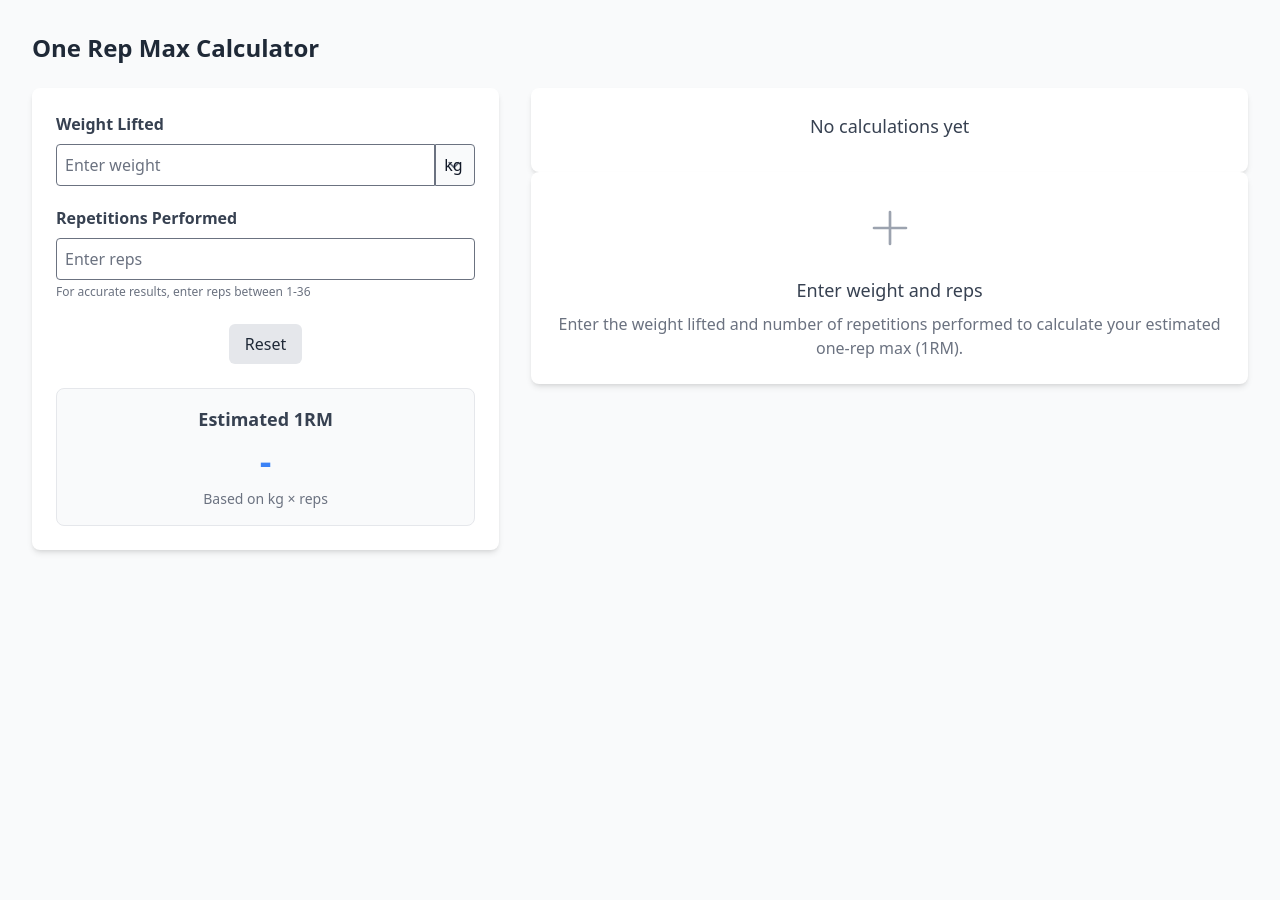
OneRepMaxCalculator › resets calculator when Reset button is clicked
Type "100" into the number field with placeholder "Enter weight" at (246, 165), box [56, 144, 435, 186]
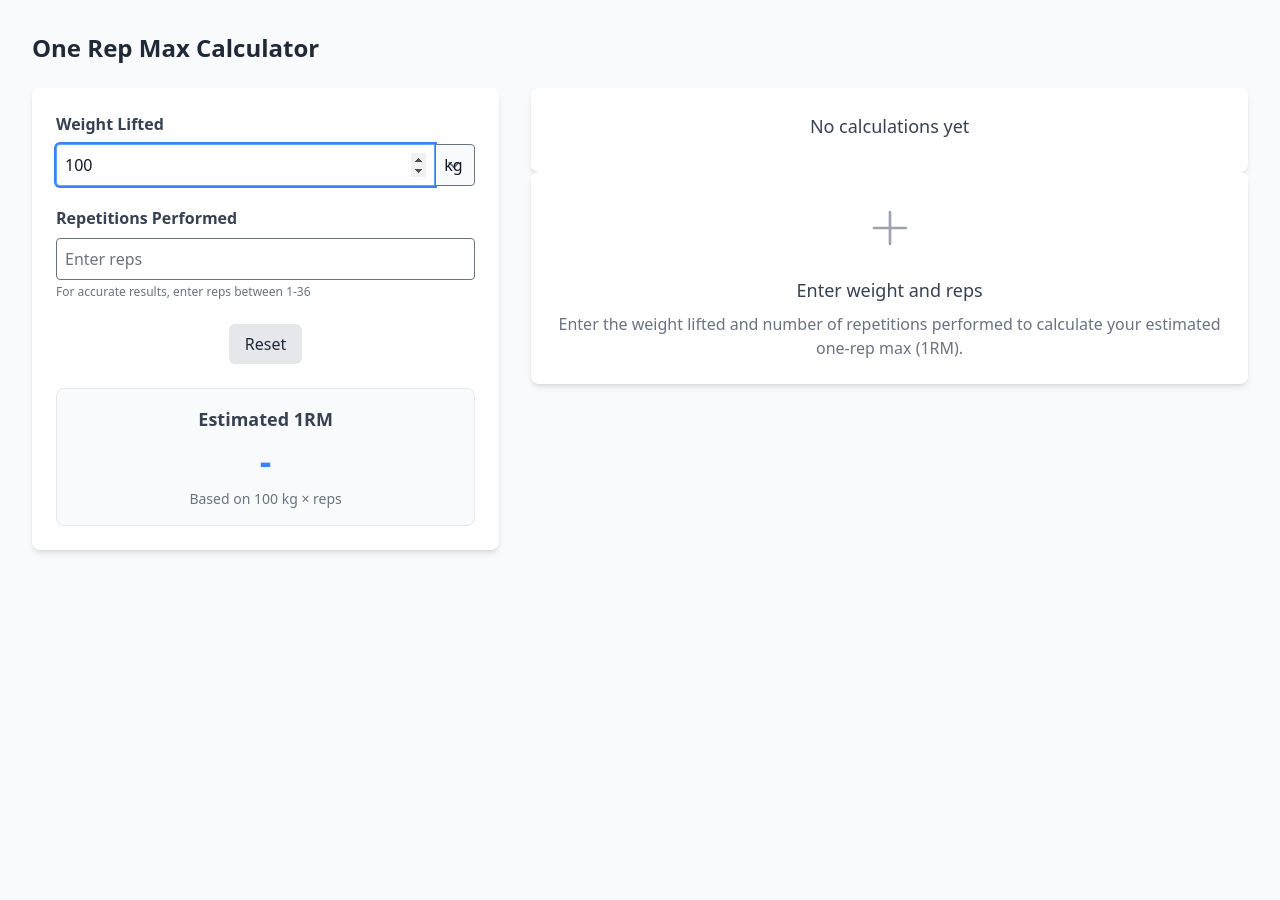
Type "10" into the number field with placeholder "Enter reps" at (266, 259), box [56, 238, 475, 280]
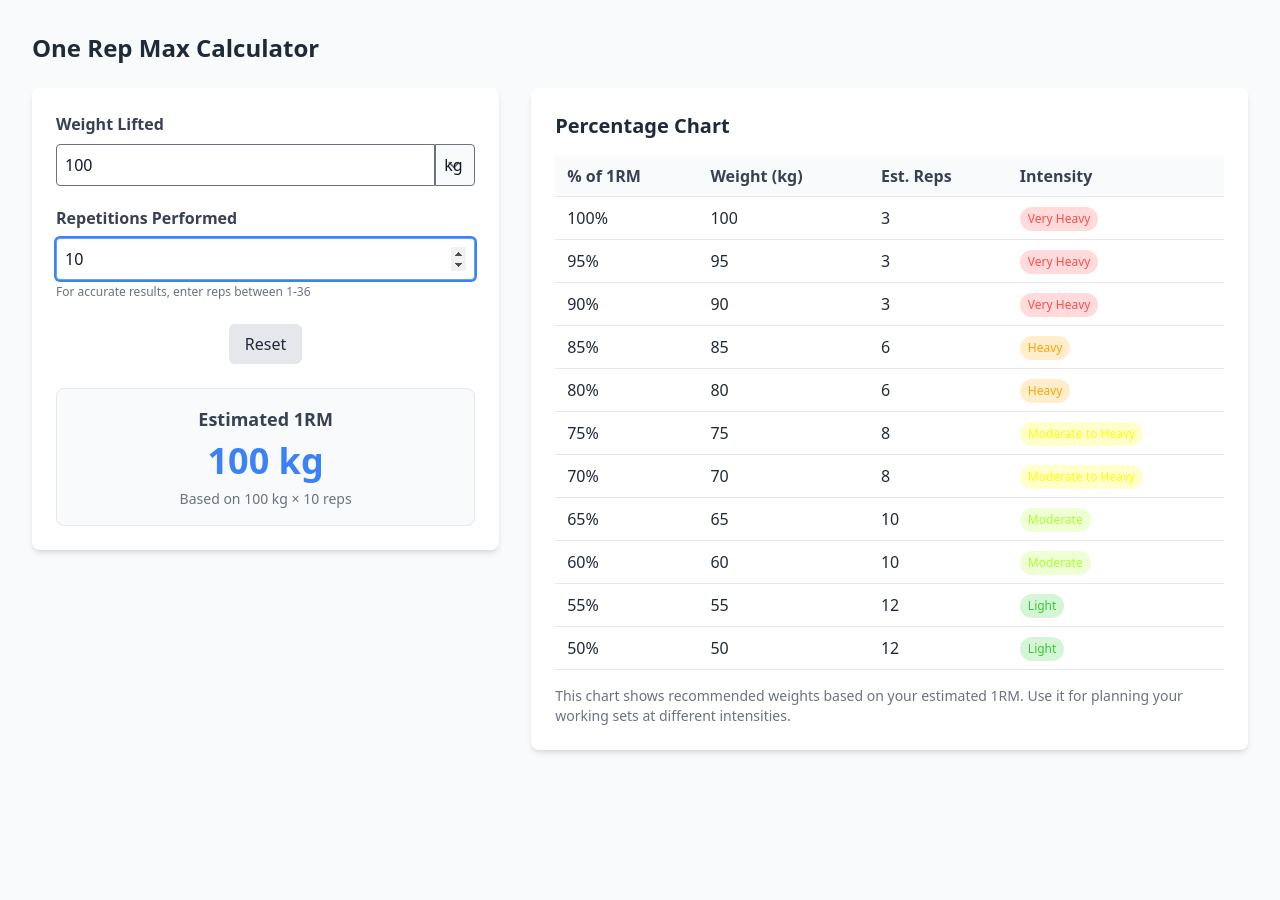
Result: the heading "Percentage Chart" is shown at [555, 112, 730, 139]
// Click the reset button
Click the button "Reset" at (266, 344), box [229, 324, 302, 364]
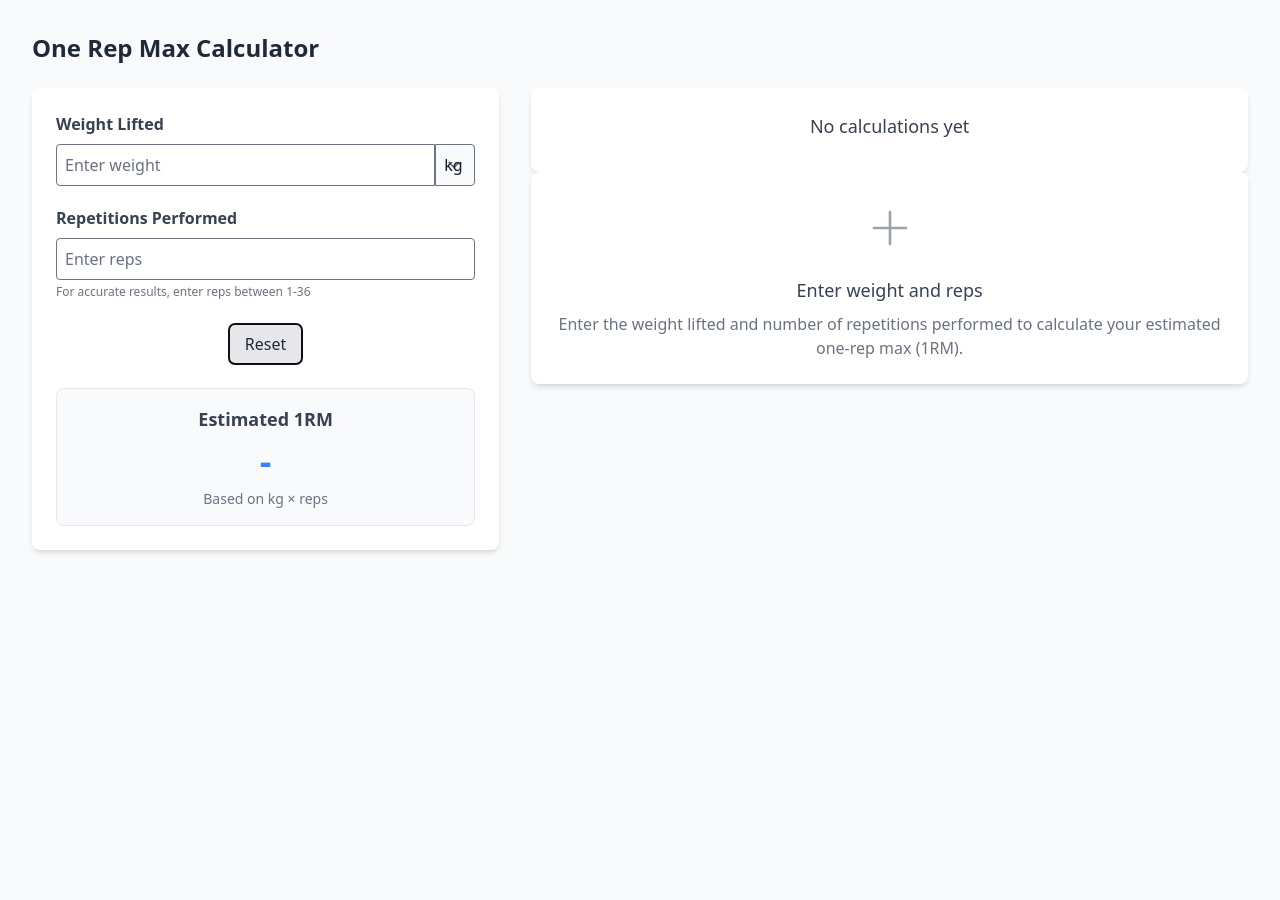
Result: the heading "Percentage Chart" is gone
Result: the heading "No calculations yet" is shown at [810, 114, 969, 138]
Result: the heading "Enter weight and reps" is shown at [796, 278, 983, 302]
